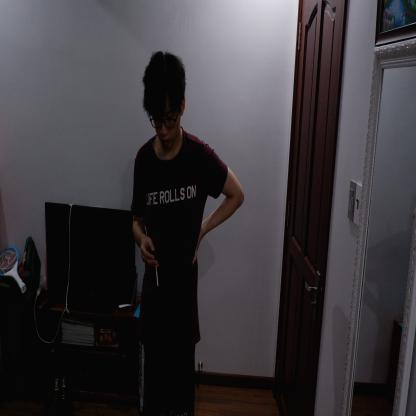cigarette: (154, 262, 160, 288)
person: (129, 49, 242, 415)
